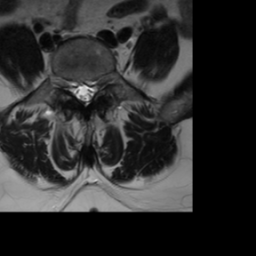CCS_normal: (79, 73, 87, 112)
LFS_normal: (95, 69, 103, 97)
LLS_normal: (87, 74, 95, 107)
RFS_normal: (63, 69, 71, 102)
RLS_normal: (71, 73, 79, 106)
